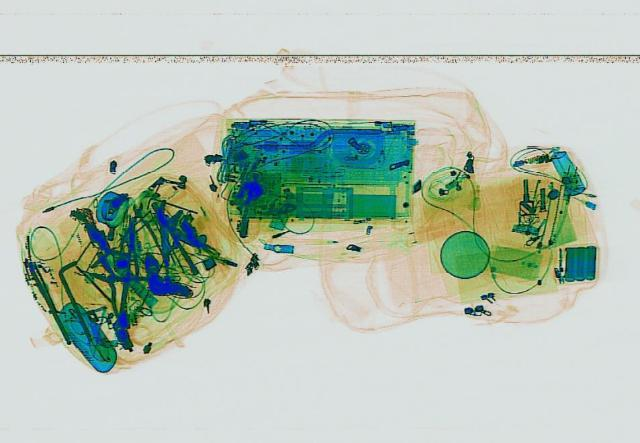Pliers: (113, 199, 167, 270)
